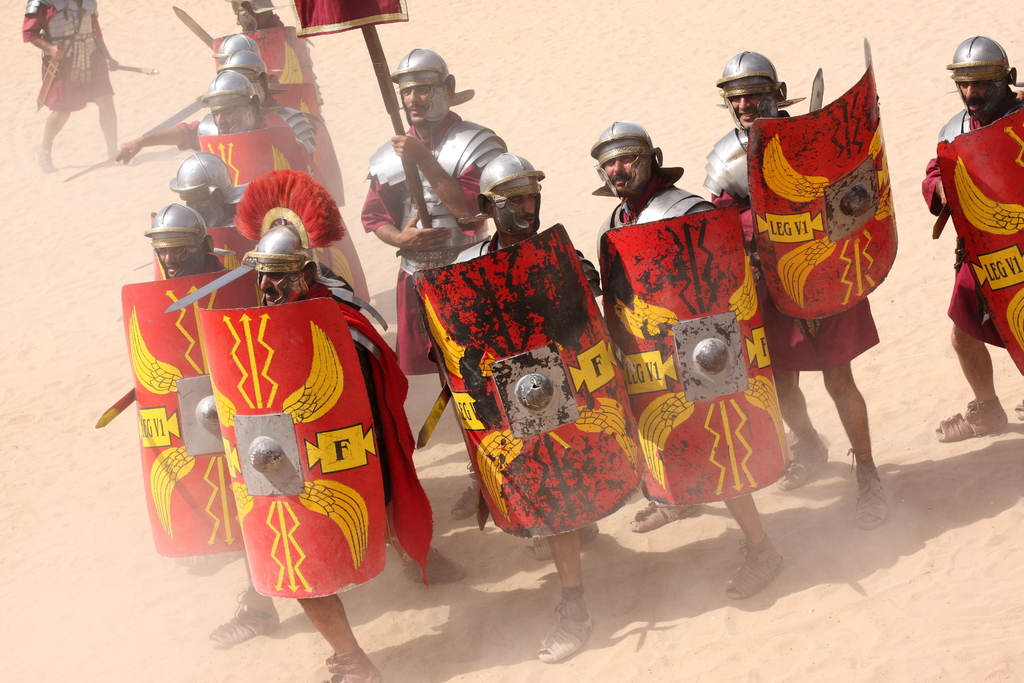Person: (21, 0, 1024, 681)
